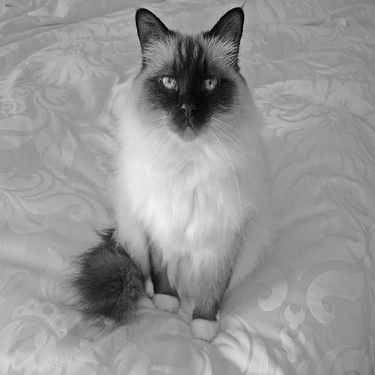cat: (120, 9, 278, 343), (72, 225, 153, 324)
